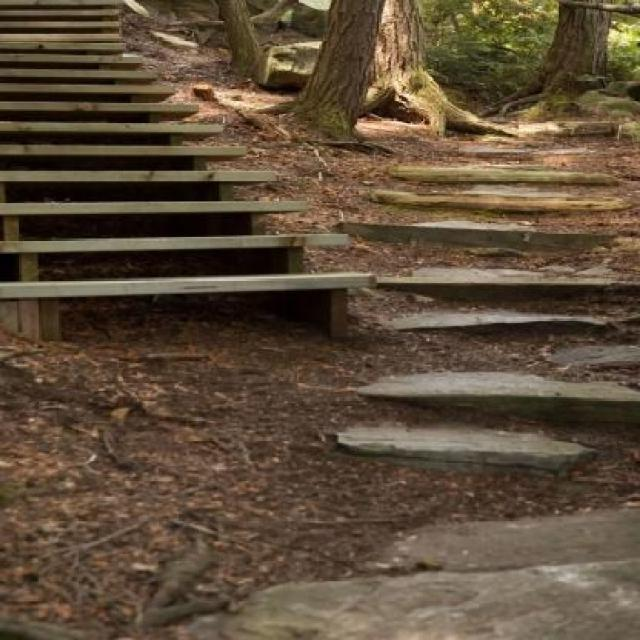stair: (0, 0, 373, 298)
